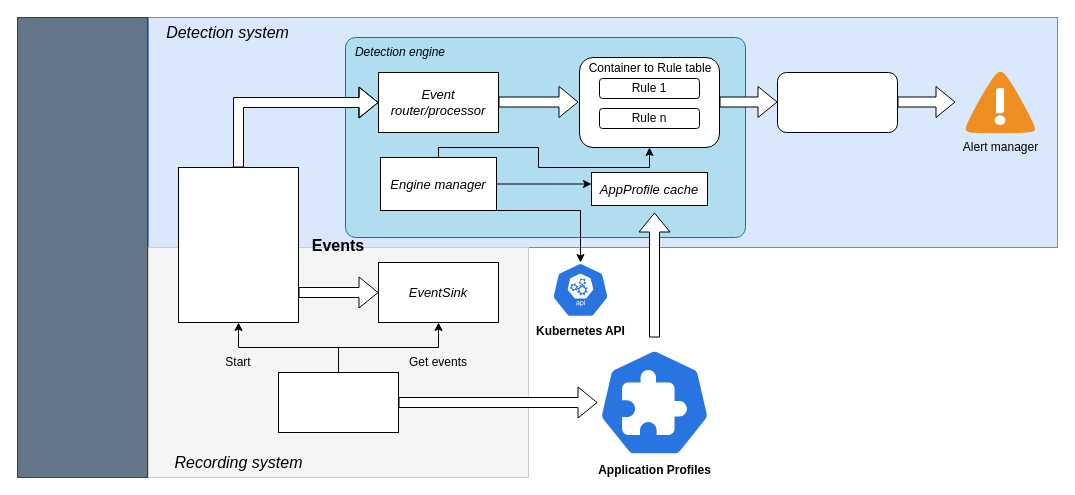
This 1075x495 diagram has some shape labels left out. Here are the shapes that lost their labels. From the top down, the box of each, then its label:
(776, 72, 898, 132): Alert aggregation
(16, 16, 148, 478): Kernel/eBPF
(178, 166, 298, 322): Tracer
(278, 372, 398, 432): Collector
